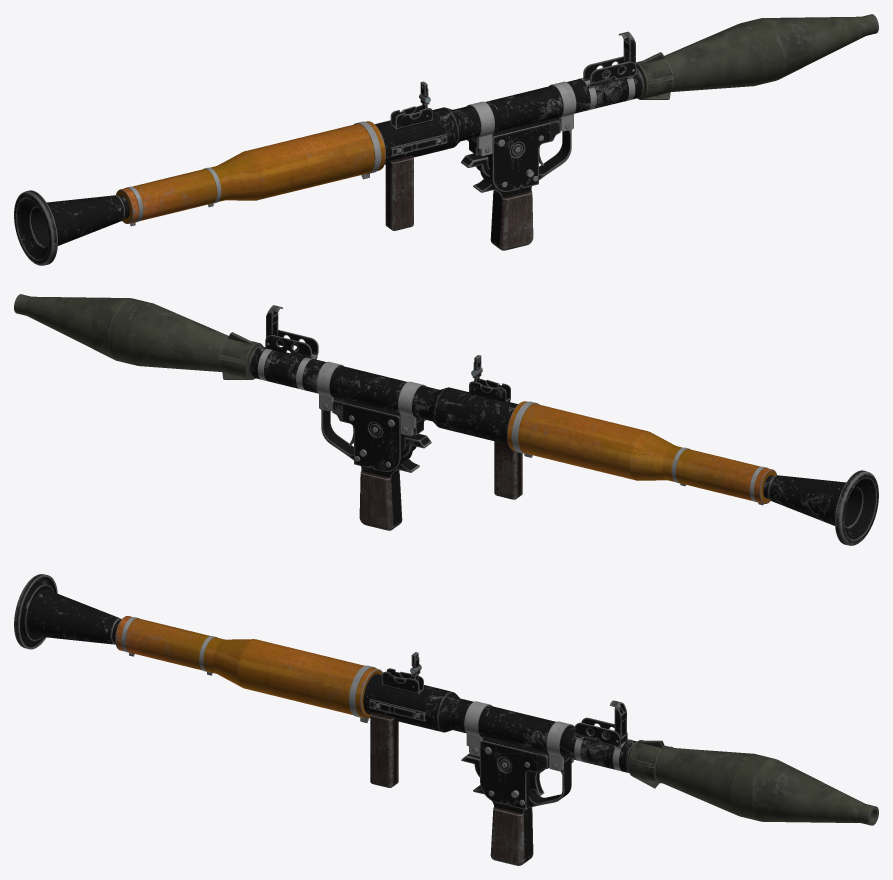
File: Bazooka.fbx
3 renders of one model, top to bottom at view 1: azimuth 30°, elevation 25°; view 2: azimuth 150°, elevation 25°; view 3: azimuth 330°, elevation 25°, orthographic.
Parts seen in each view (by area): view 1: Body3, Body1_22, Body2, Body5, Body1_7, Body1, Body15, Body1_6, Body51, Body1_1, Body52, Body1_3 (+1 smaller); view 2: Body3, Body1_22, Body2, Body5, Body1_10, Body1, Body1_9, Body16, Body51, Body1_1, Body1_3, Body52; view 3: Body1_22, Body3, Body2, Body5, Body1_7, Body15, Body1_6, Body1, Body51, Body1_1, Body52, Body1_3.
Part boxes in pixels (<box>): Body3: <box>116,121,385,223</box>; Body1_22: <box>636,14,878,99</box>; Body2: <box>375,68,643,164</box>; Body5: <box>14,190,124,265</box>; Body1_7: <box>490,121,550,191</box>; Body1: <box>469,117,571,248</box>; Body15: <box>389,156,413,230</box>; Body1_6: <box>499,191,533,250</box>; Body51: <box>583,56,636,88</box>; Body1_1: <box>466,101,494,156</box>; Body52: <box>390,105,432,129</box>; Body1_3: <box>549,81,576,131</box>; Body3: <box>507,401,776,503</box>; Body1_22: <box>14,294,263,379</box>; Body2: <box>249,346,517,444</box>; Body5: <box>768,470,878,545</box>; Body1_10: <box>342,401,402,471</box>; Body1: <box>321,397,423,528</box>; Body1_9: <box>359,471,393,530</box>; Body16: <box>494,441,518,499</box>; Body51: <box>265,330,318,359</box>; Body1_1: <box>398,381,426,436</box>; Body1_3: <box>316,361,343,411</box>; Body52: <box>469,378,510,401</box>; Body1_22: <box>628,740,878,825</box>; Body3: <box>115,616,382,718</box>; Body2: <box>363,673,636,772</box>; Body5: <box>14,574,121,649</box>; Body1_7: <box>480,739,539,809</box>; Body15: <box>370,713,394,787</box>; Body1_6: <box>490,807,524,865</box>; Body1: <box>469,737,571,863</box>; Body51: <box>574,717,627,748</box>; Body1_1: <box>464,701,492,756</box>; Body52: <box>382,668,423,693</box>; Body1_3: <box>546,721,573,771</box>.
Bounding box in the file's own units: 865 × 185 × 69.75.
1 material, 1 textured.
